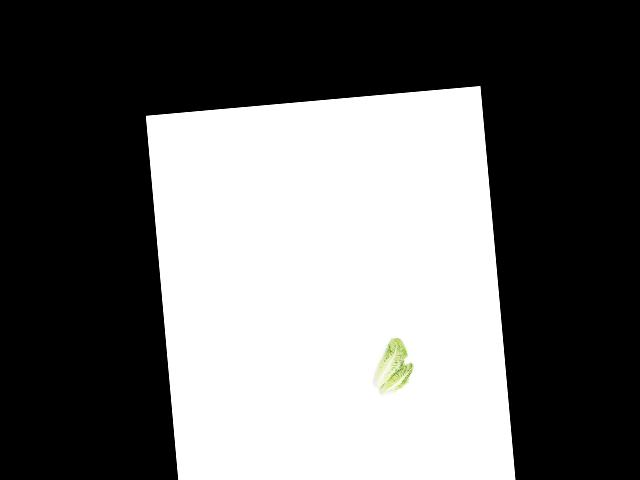lettuce: (367, 336, 411, 384)
